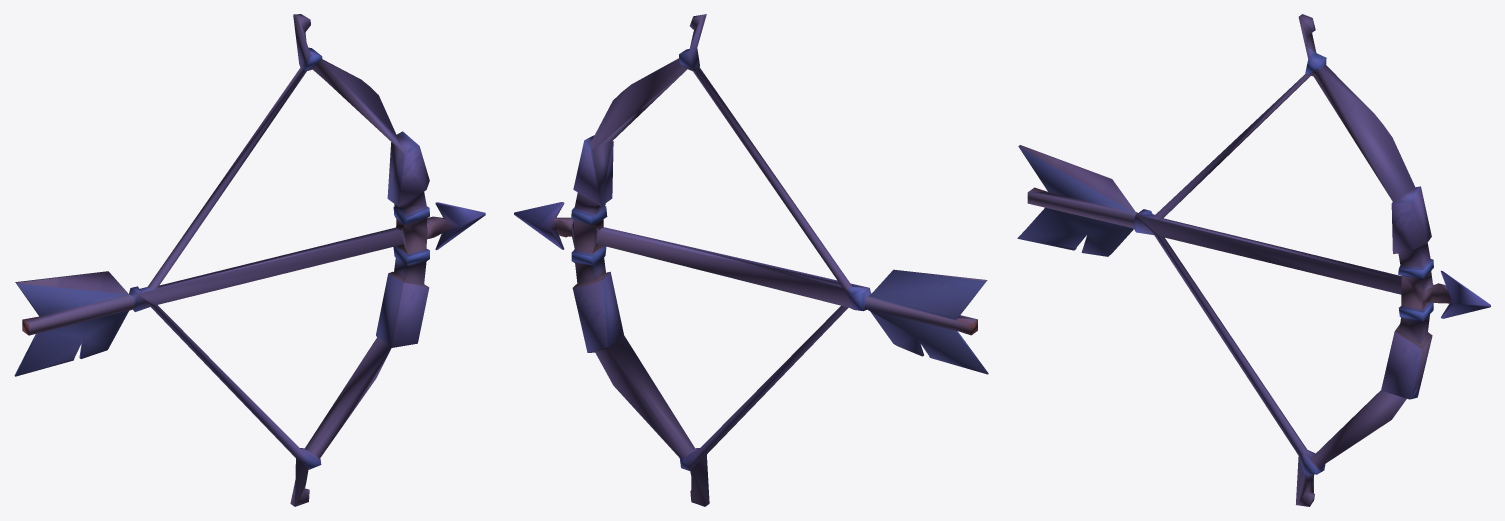
The model's file is model.progressive.glb.
3 renders of one model, left to right at view 1: azimuth 30°, elevation 25°; view 2: azimuth 150°, elevation 25°; view 3: azimuth 330°, elevation 25°, orthographic.
Parts seen in each view (by area): view 1: mesh_input; view 2: mesh_input; view 3: mesh_input.
Boxes of the visible parts, left/top/right/bottom form: mesh_input: left=14, top=14, right=485, bottom=506; mesh_input: left=514, top=14, right=988, bottom=506; mesh_input: left=1017, top=14, right=1490, bottom=506.
Size of the model in its own units: 1.9 by 1.88 by 0.129.
1 material, 1 textured.
